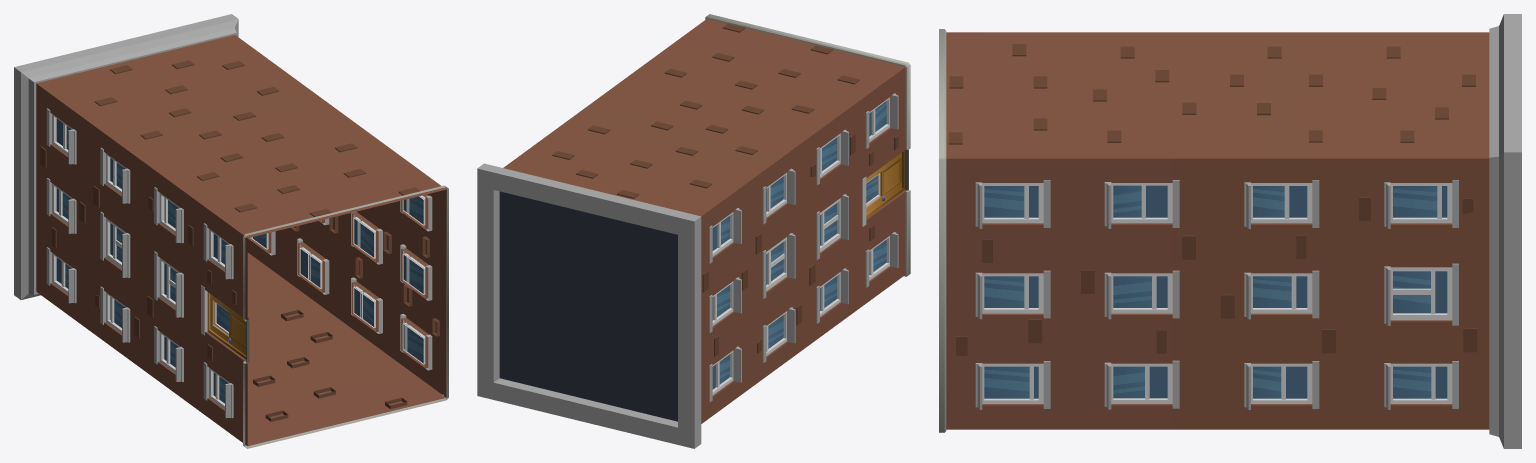
File: Building_2_5_D.fbx
3 renders of one model, left to right at view 1: azimuth 30°, elevation 25°; view 2: azimuth 150°, elevation 25°; view 3: azimuth 270°, elevation 25°, orthographic. The views are drawn at different scales.
Parts seen in each view (by area): view 1: Building_2_5_D; view 2: Building_2_5_D; view 3: Building_2_5_D.
Boxes of the visible parts, x1,y1,x2,y2 form: Building_2_5_D: [14, 14, 448, 448]; Building_2_5_D: [477, 14, 910, 448]; Building_2_5_D: [939, 14, 1521, 448].
Bounding box in the file's own units: 620 × 620 × 1105.
